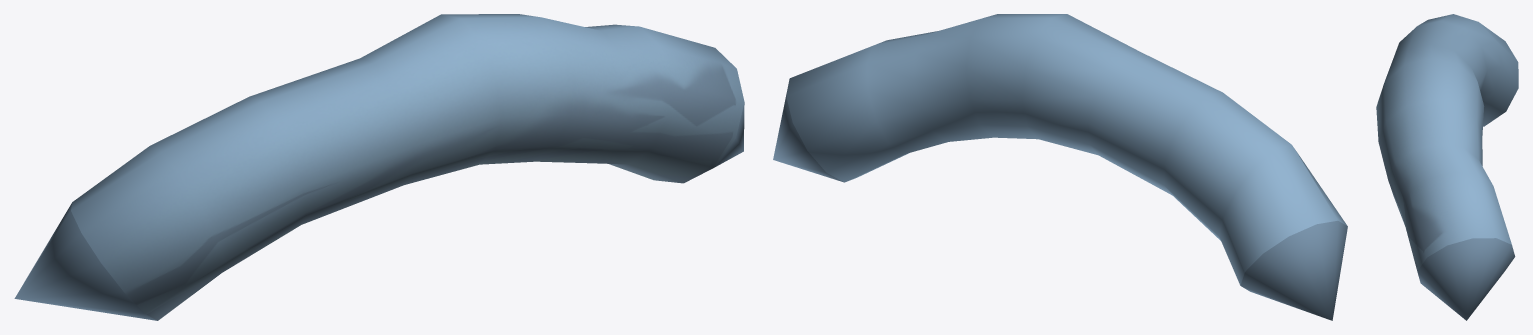
File: log1.fbx
The picture shows the model from 3 angles, left to right: view 1: azimuth 30°, elevation 25°; view 2: azimuth 150°, elevation 25°; view 3: azimuth 270°, elevation 25°; orthographic projection. The views are drawn at different scales.
Parts seen in each view (by area): view 1: log; view 2: log; view 3: log.
Part boxes in pixels (x1,y1,x2,y2): log: (14, 14, 744, 320); log: (773, 14, 1347, 320); log: (1376, 14, 1518, 320).
Size of the model in its own units: 11.06 by 3.61 by 2.79.
